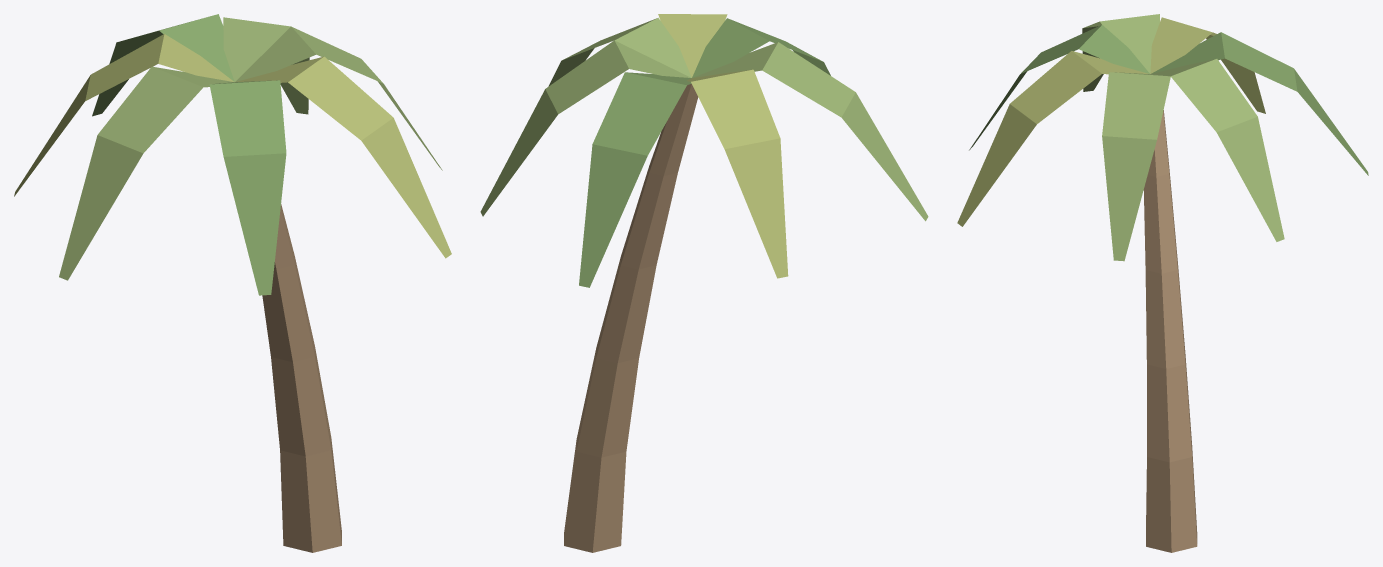
3 views of the same model, side by side, from view 1: azimuth 30°, elevation 25°; view 2: azimuth 150°, elevation 25°; view 3: azimuth 270°, elevation 25° (orthographic). The views are drawn at different scales.
Parts seen in each view (by area): view 1: Body; view 2: Body; view 3: Body.
Boxes of the visible parts, x1,y1,x2,y2 form: Body: (14, 14, 451, 552); Body: (480, 14, 928, 552); Body: (957, 14, 1368, 552).
Bounding box in the file's own units: 3.8 × 4.73 × 3.88.
